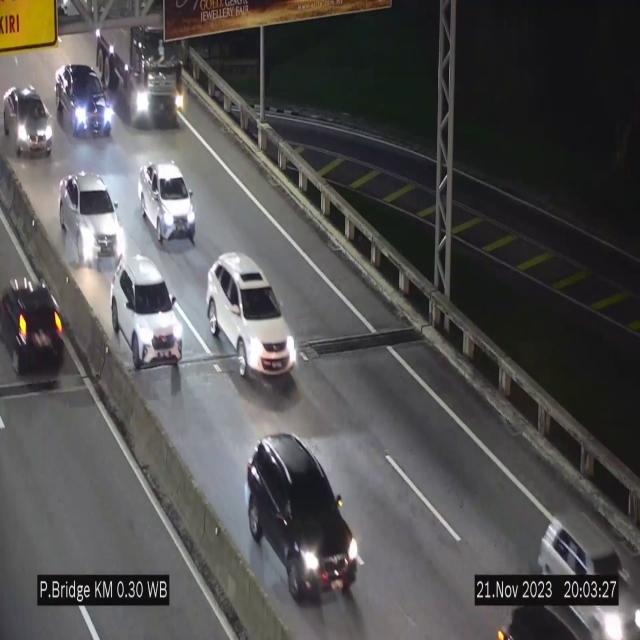Car: (246, 432, 362, 606), (539, 492, 640, 636), (206, 254, 296, 382), (0, 271, 72, 389), (111, 259, 181, 369), (59, 171, 128, 271), (138, 158, 196, 248), (53, 61, 113, 141), (2, 84, 54, 161)
Truck: (92, 28, 194, 128)
